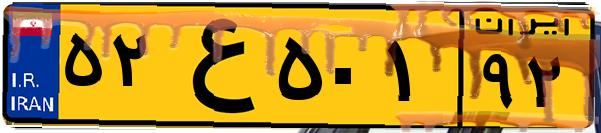0: (330, 28, 385, 110)
1: (385, 28, 445, 110)
2: (525, 38, 570, 115), (110, 28, 158, 98)
5: (270, 28, 330, 110), (57, 26, 110, 100)
9: (475, 38, 525, 113)
ع: (158, 12, 270, 120)
